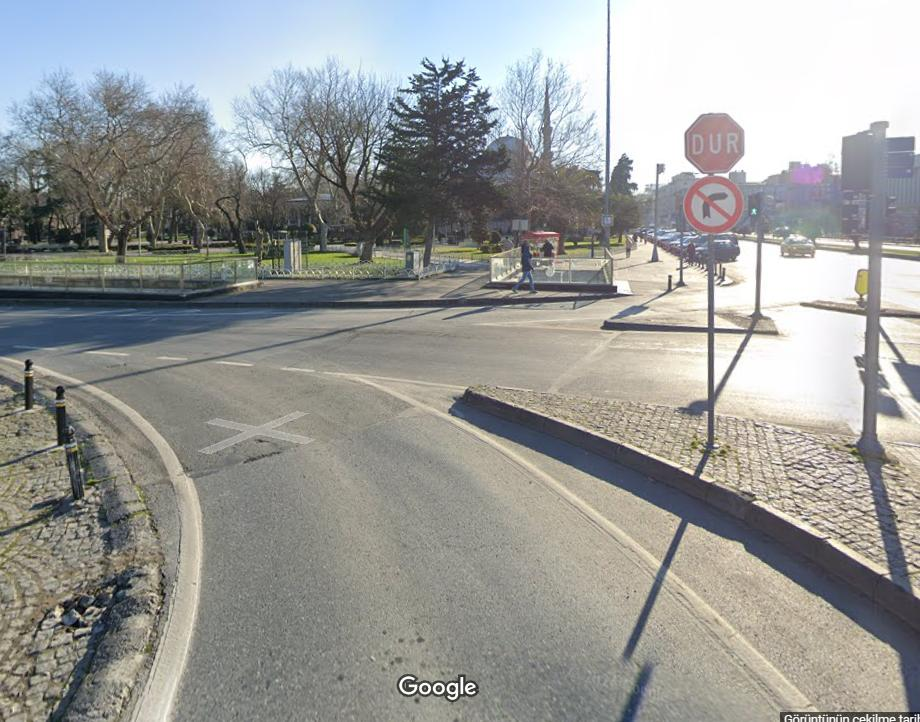rightturnsareforbidden: (685, 177, 744, 231)
stop: (687, 113, 746, 174)
